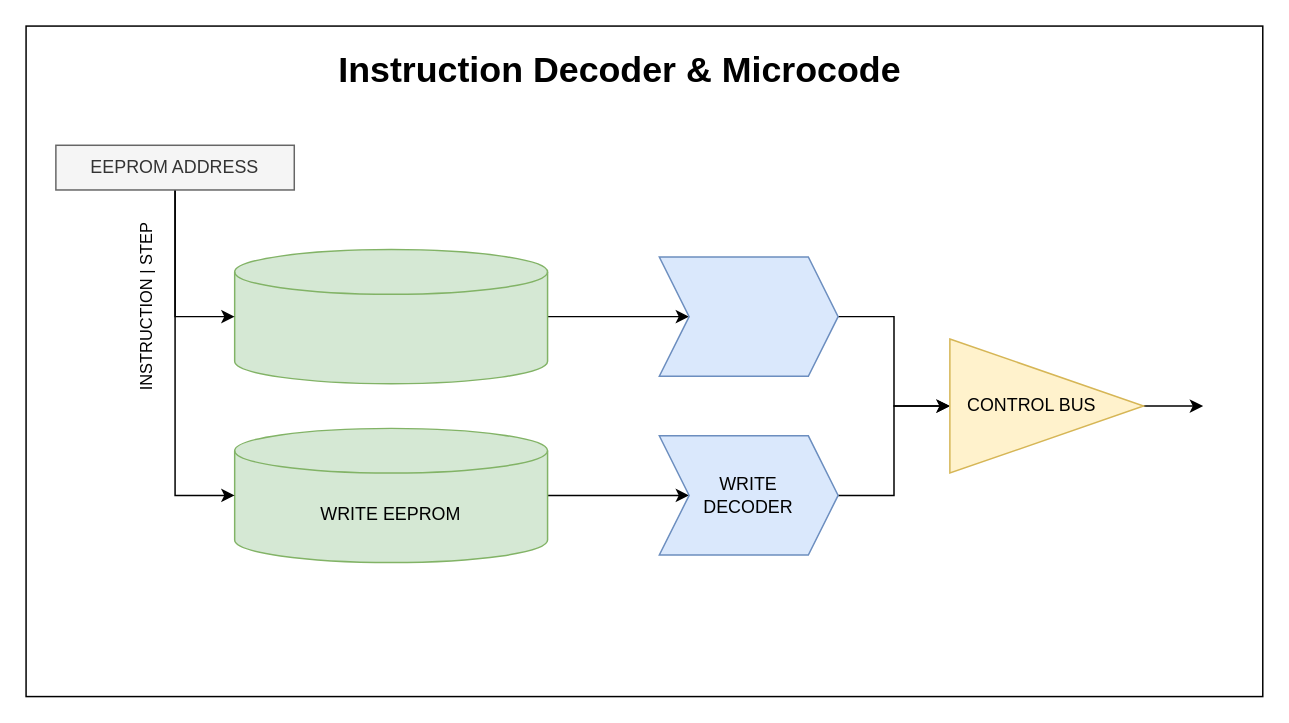
This 1289x723 diagram has some shape labels left out. Here are the shapes that lost their labels. From the top down, the centre of each, then its label:
point (390, 316): READ EEPROM
point (748, 316): READ DECODER
